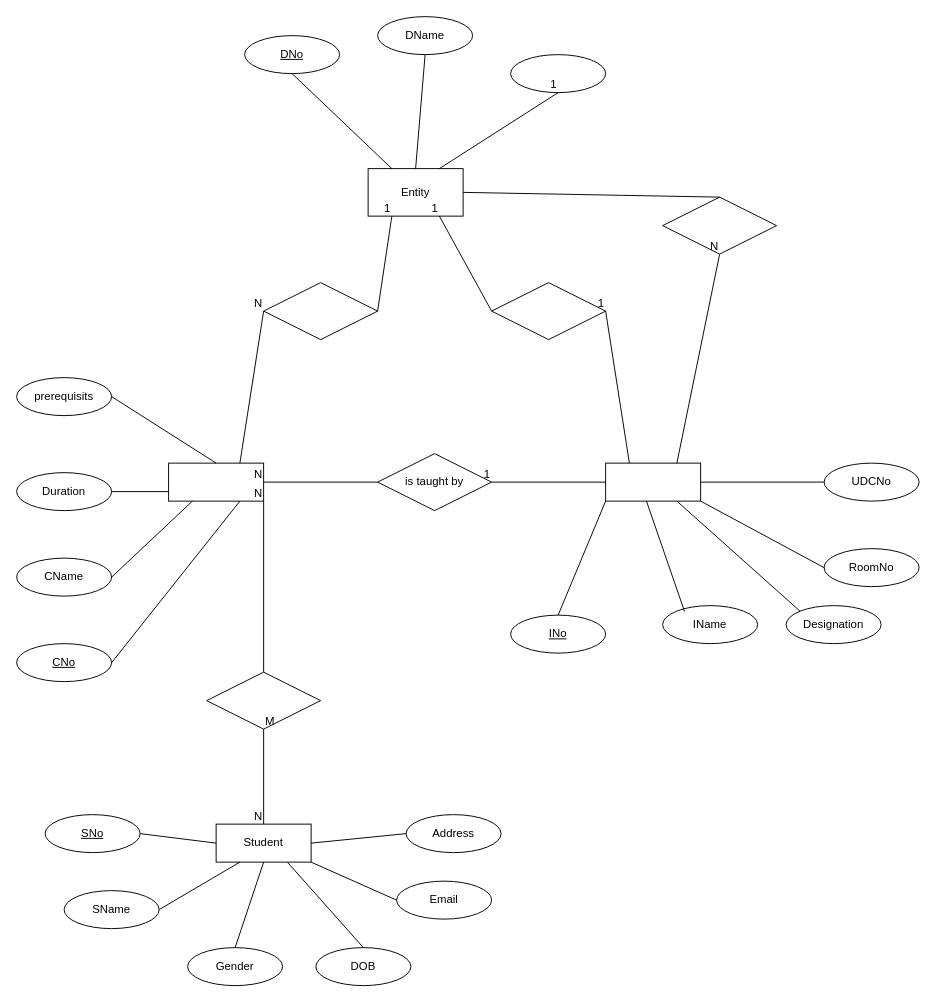
The diagram is 936 pixels wide and 1002 high, and some of its shapes have lost their labels. The box of each missing label's shape, as (x1, y1, x2, y2) in pixels:
Course: (168, 462, 264, 501)
Enrolled by: (206, 671, 321, 729)
Has: (662, 196, 777, 254)
Headedby: (491, 282, 606, 340)
Instructor: (605, 462, 701, 501)
Location: (510, 54, 606, 93)
offers: (263, 282, 378, 340)
